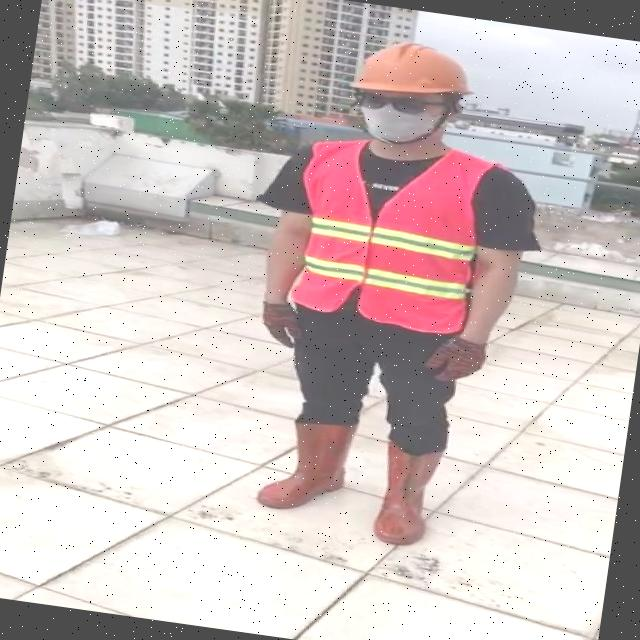boots: (258, 415, 352, 519), (372, 442, 443, 550)
helmet: (344, 34, 482, 105)
vest: (287, 133, 490, 335)
